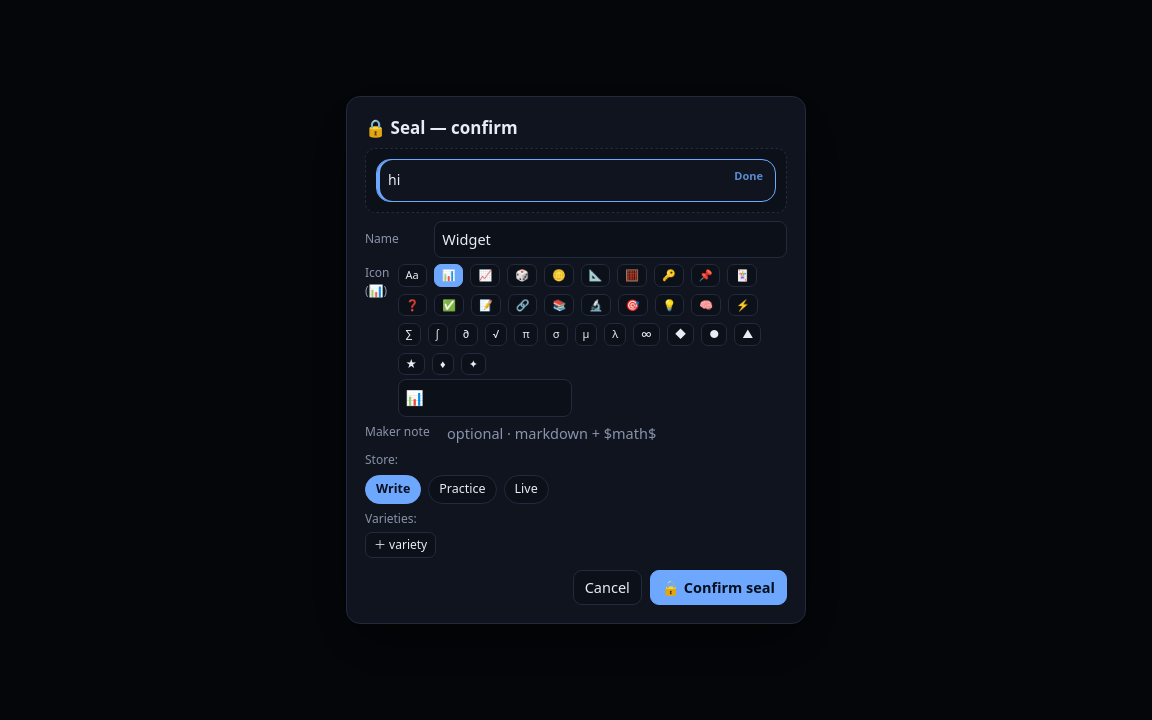
Test: SealModal › Seal as new with the unchanged source name errors and does not confirm
Click the button "🔒 Confirm seal" at (718, 587), box left=650, top=570, right=787, bottom=605
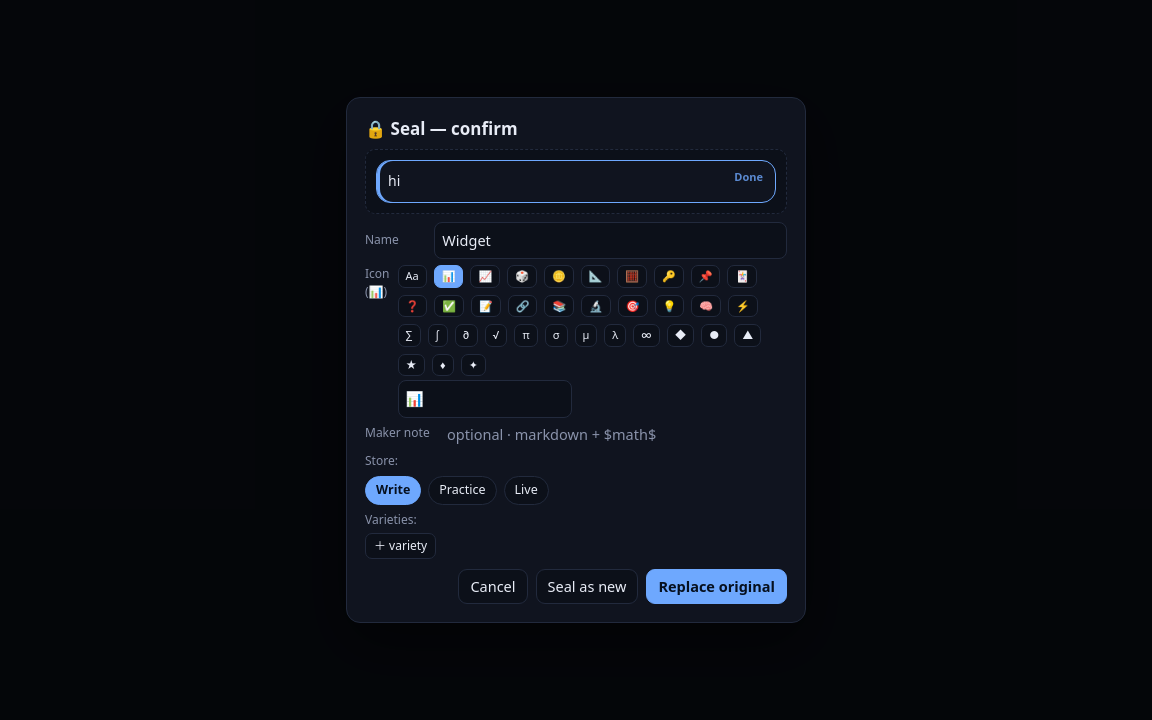
Click the button "Seal as new" at (587, 586), box left=536, top=568, right=638, bottom=604
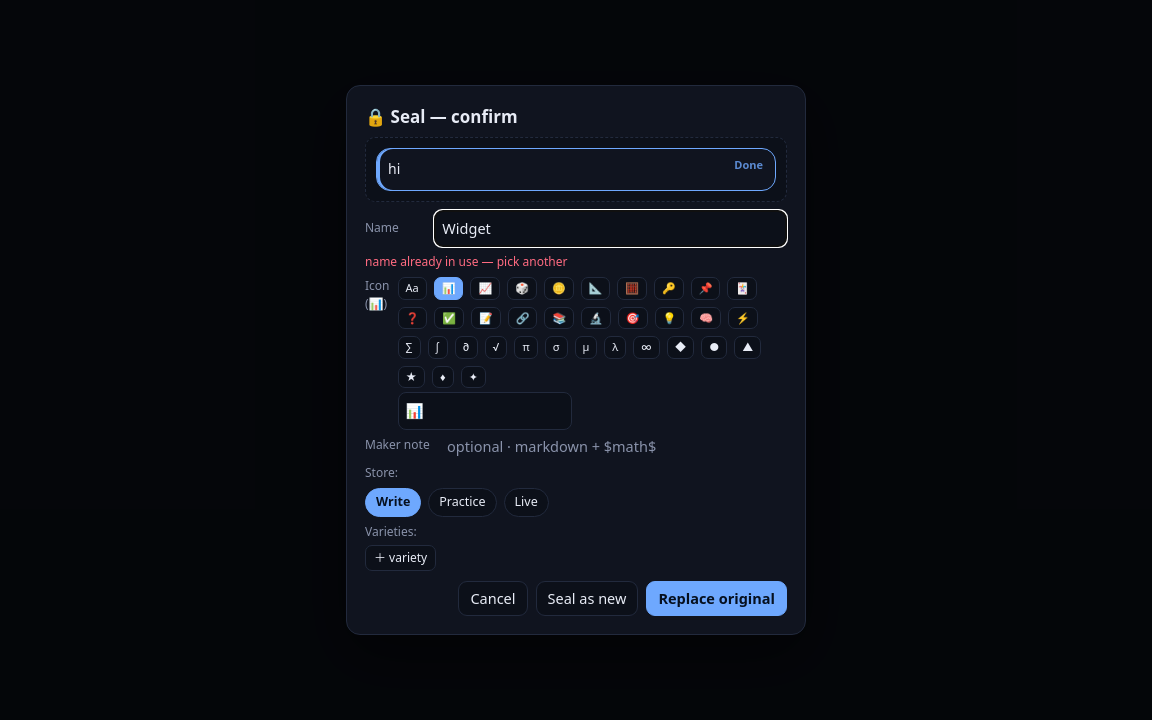
Check: the text "name already in use — pick another" is shown, box left=365, top=253, right=567, bottom=270
